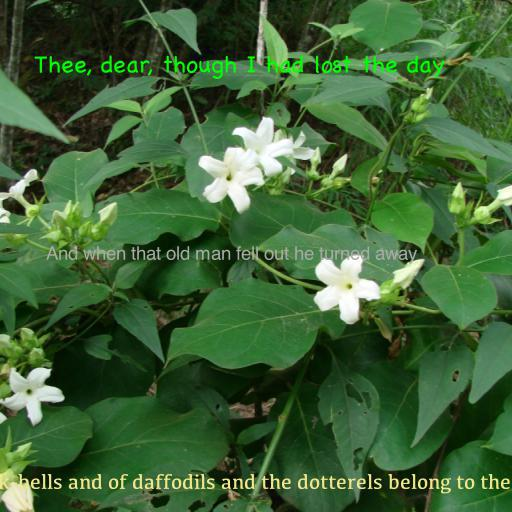Big Caslon: (45, 246, 417, 264)
Chalkboard: (33, 55, 445, 80)
Kefa: (0, 474, 512, 494)
